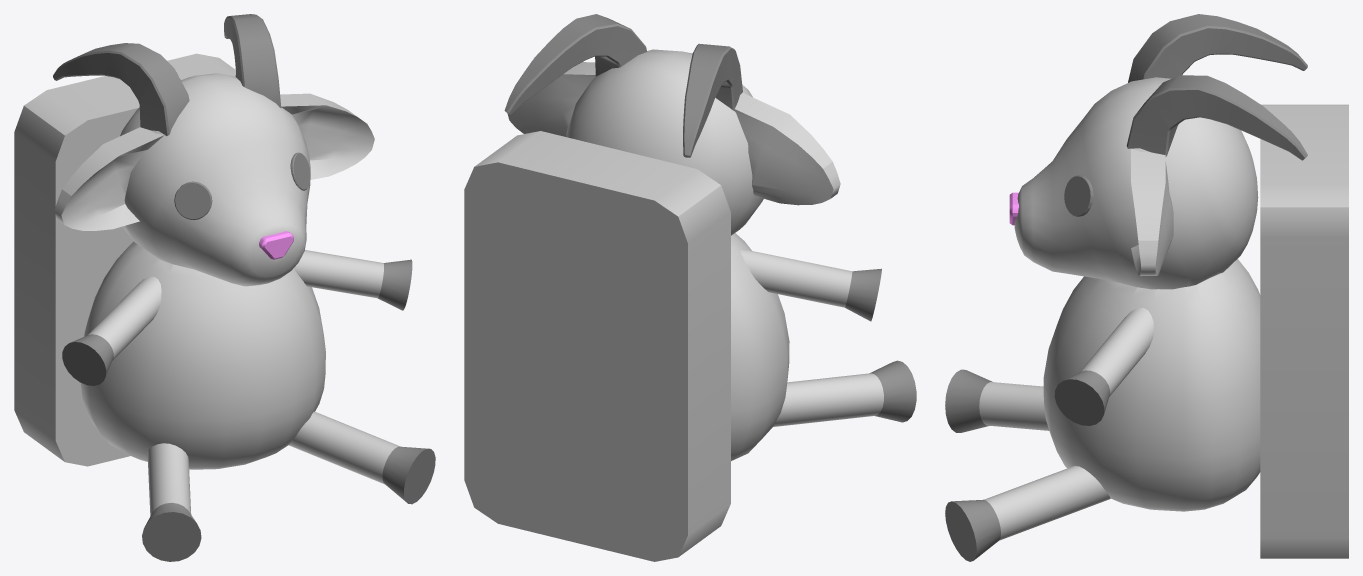
File: NightLight.fbx
The picture shows the model from 3 angles, left to right: view 1: azimuth 30°, elevation 25°; view 2: azimuth 150°, elevation 25°; view 3: azimuth 270°, elevation 25°; orthographic projection. The views are drawn at different scales.
Visible parts, largest first — view 1: polySurface75; view 2: polySurface75; view 3: polySurface75.
Part boxes in pixels (bbox=[...]): polySurface75: bbox=[14, 14, 435, 561]; polySurface75: bbox=[464, 14, 916, 561]; polySurface75: bbox=[945, 14, 1348, 561].
Size of the model in its own units: 3.12 by 3.74 by 2.93.
Materials: 3 (2 with a texture image).
